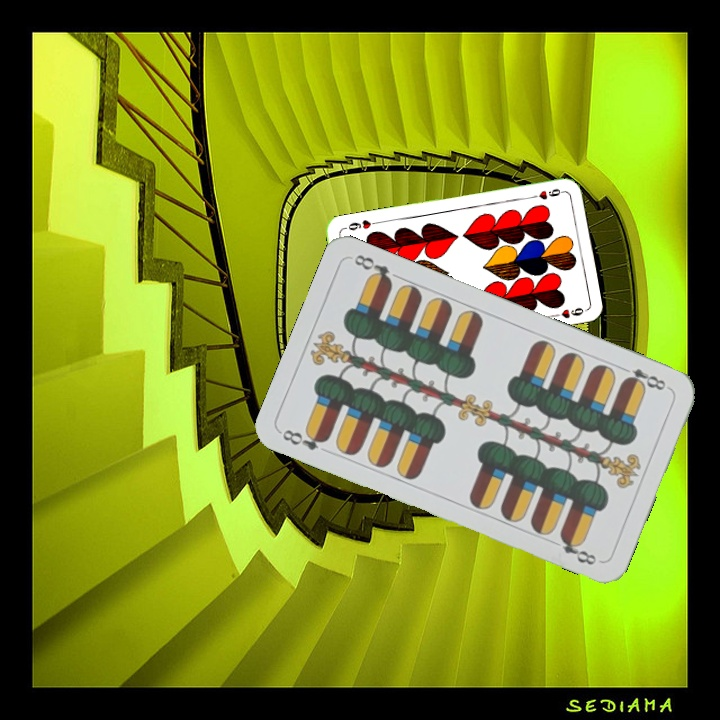E8: (616, 362, 672, 393), (278, 425, 331, 453)
H9: (525, 185, 566, 202)
